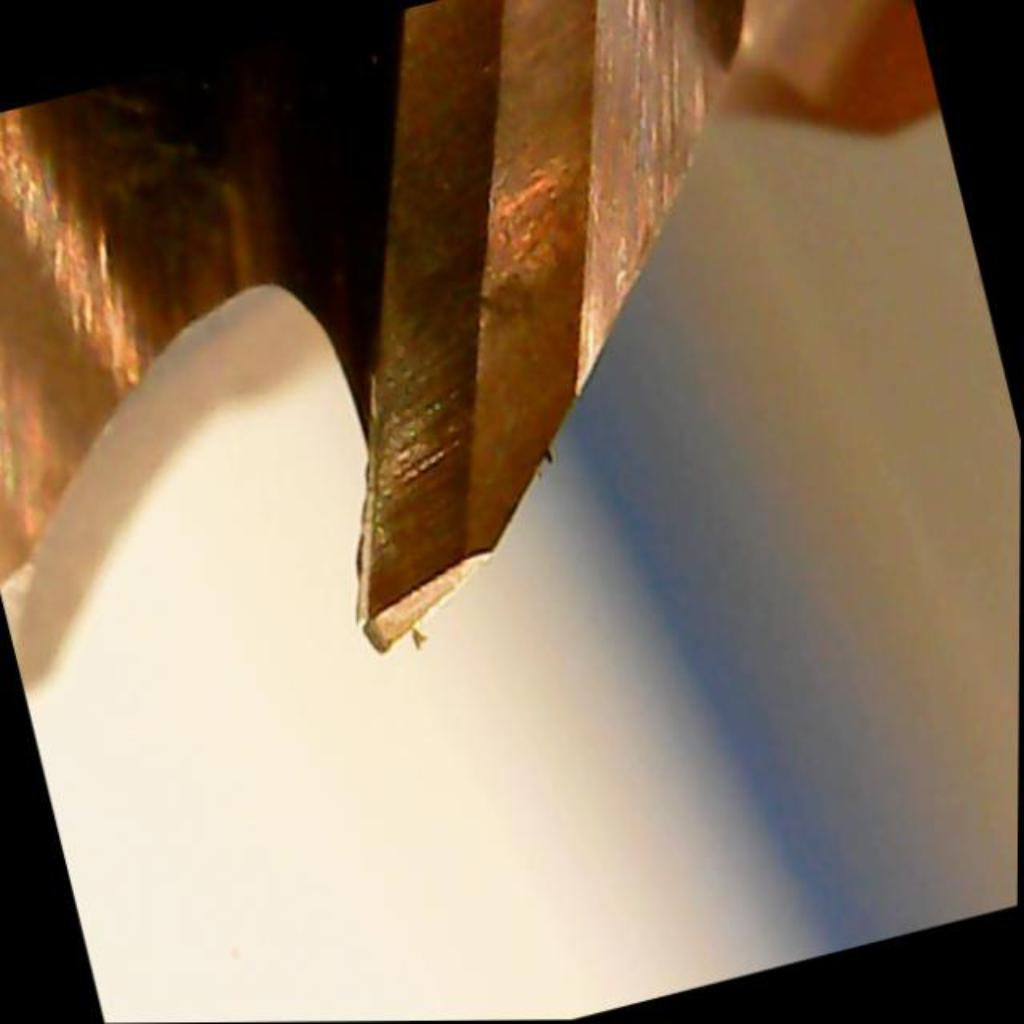Tool-wear-class-1: (270, 284, 574, 689)
